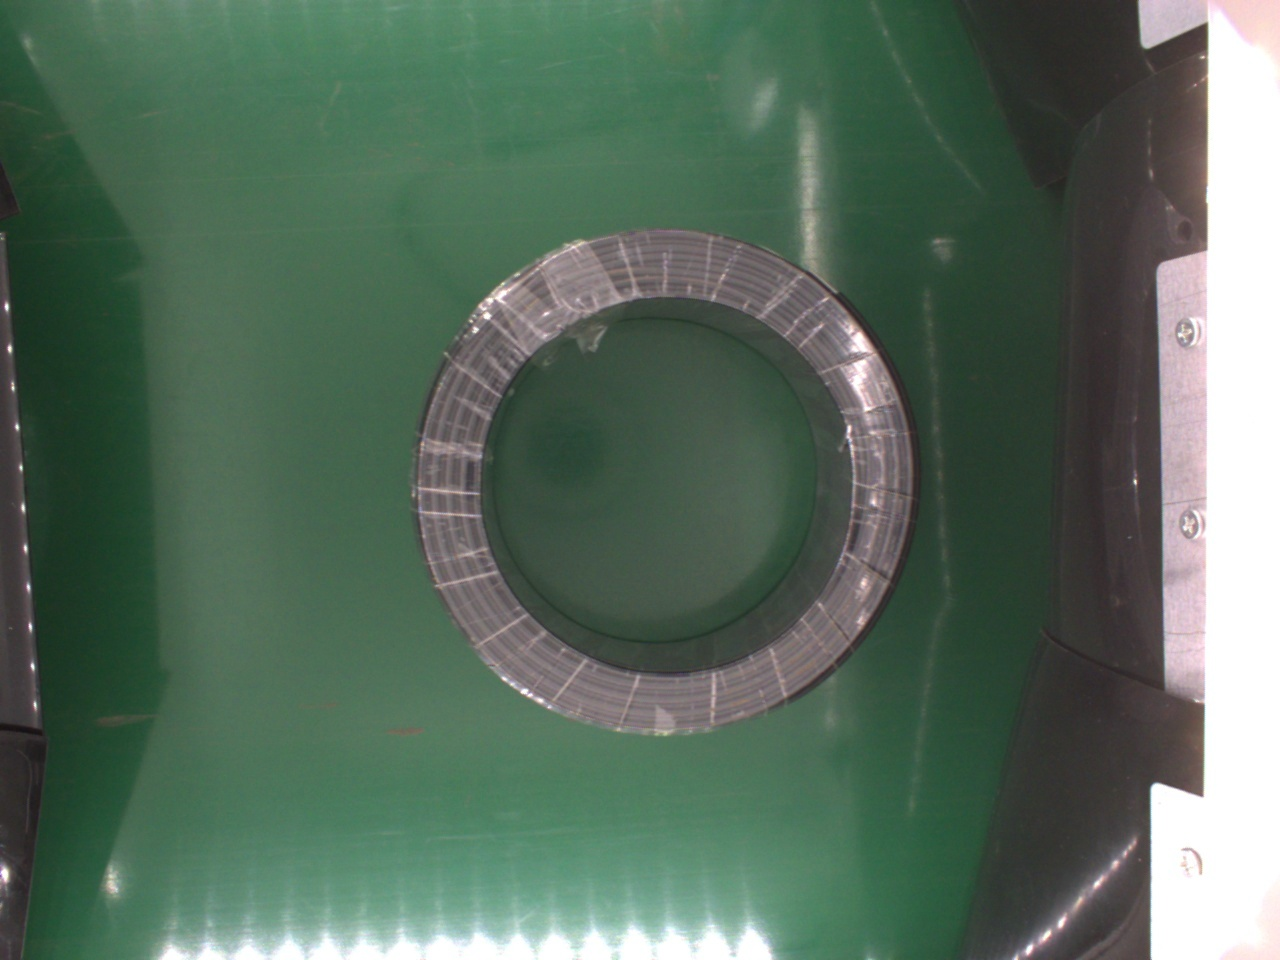black: (414, 227, 918, 739)
